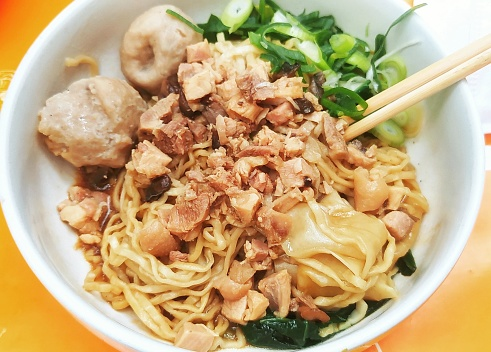Mie: (69, 48, 405, 339)
